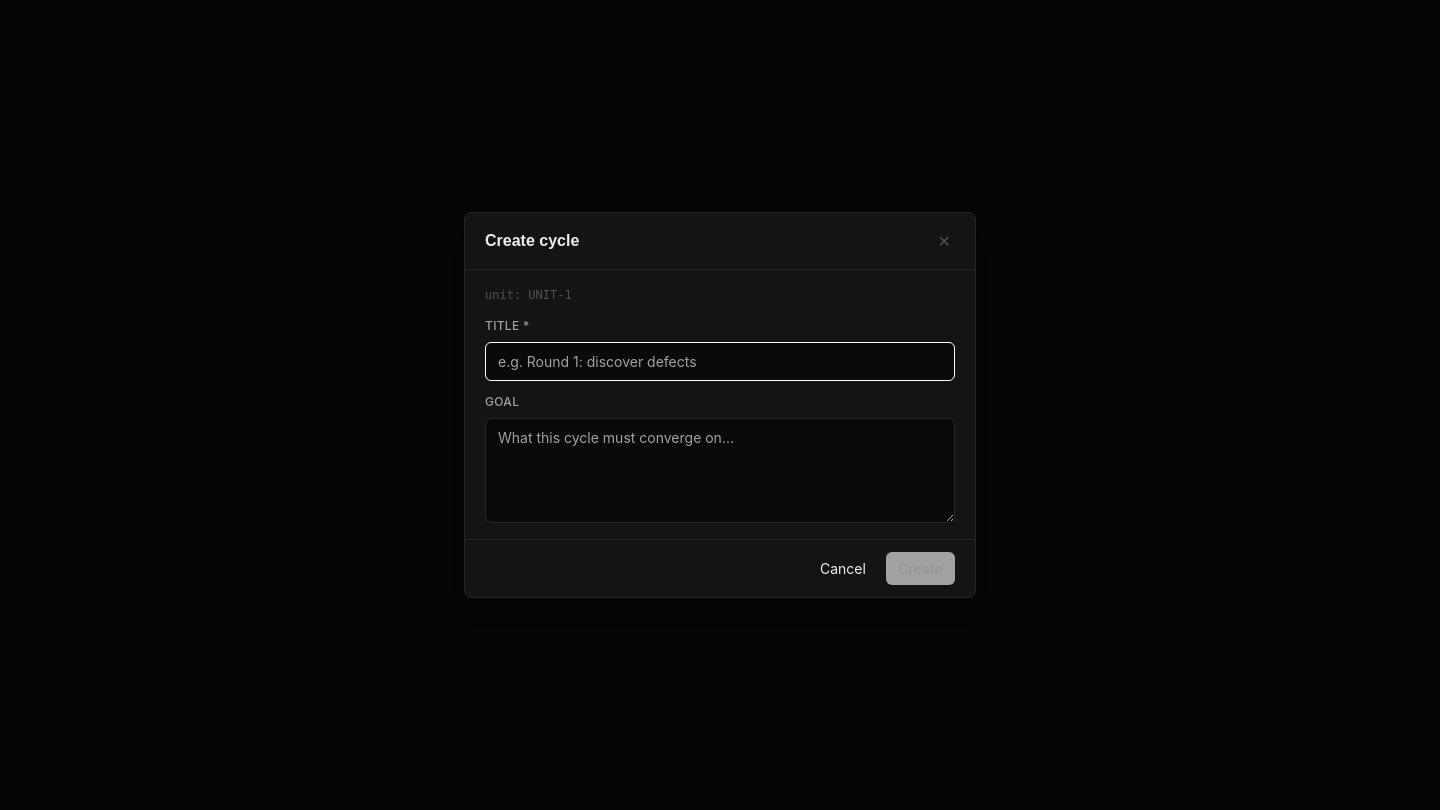
Test: CycleCreateModal › surfaces daemon errors and re-enables submit
This screenshot has width=1440, height=810.
Type "X" into the field with test id "cycle-create-title" at (720, 361), box x1=485 y1=342 x2=955 y2=381
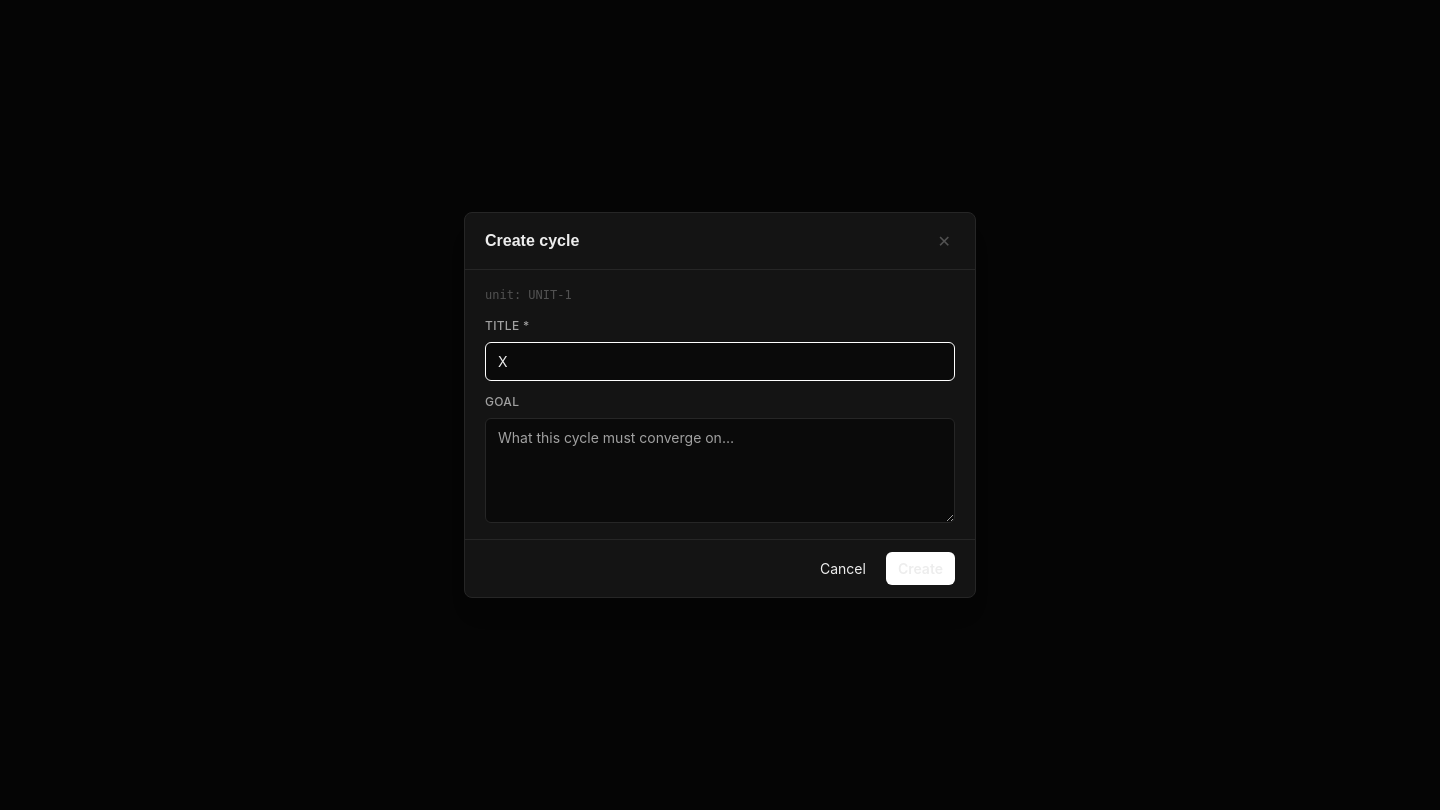
Click the button with test id "cycle-create-submit" at (920, 569), box x1=886 y1=552 x2=955 y2=585
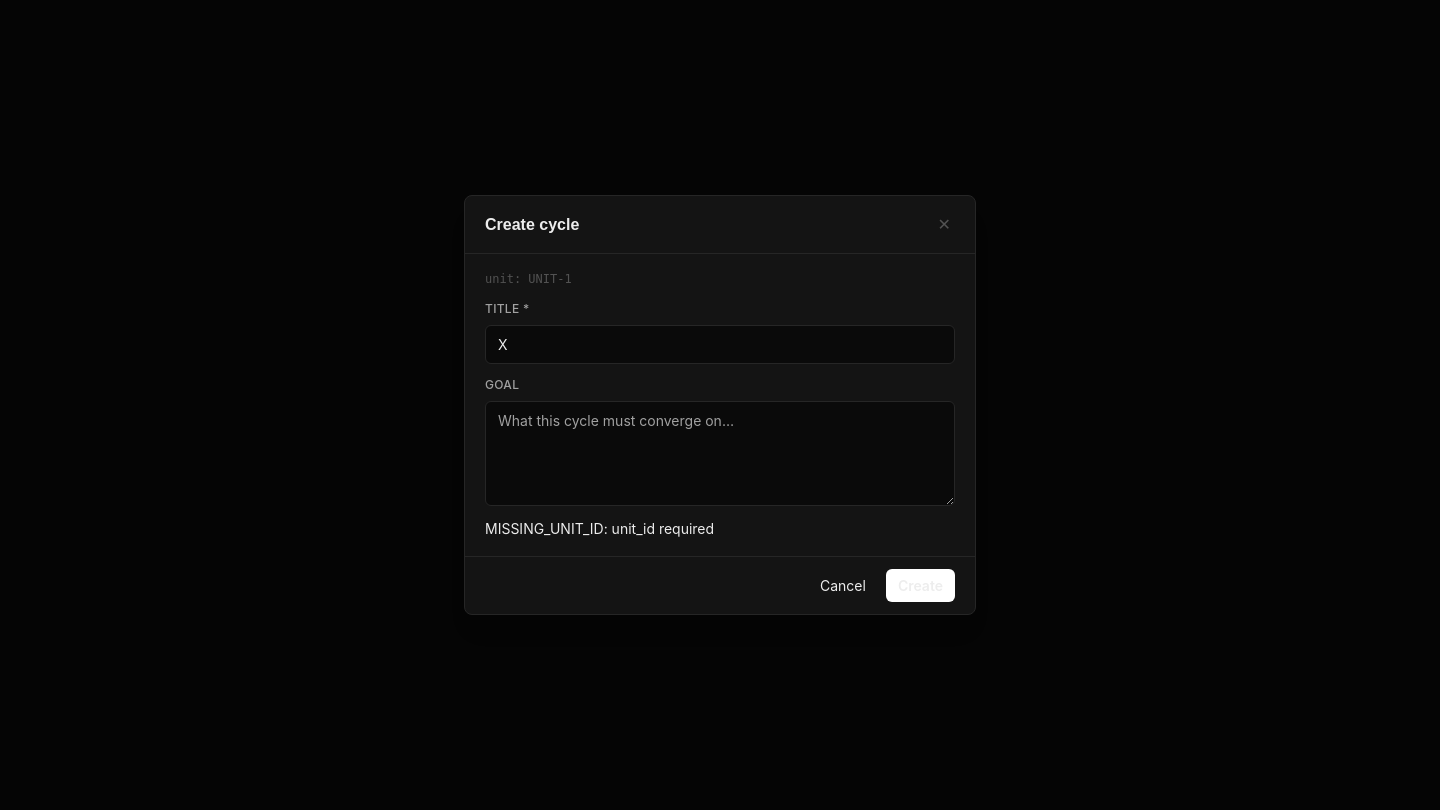
Check: the button with test id "cycle-create-submit" is enabled, box x1=886 y1=568 x2=955 y2=602
Check: the message with test id "cycle-create-error" reads "MISSING_UNIT_ID: unit_id required", box x1=485 y1=520 x2=714 y2=537
